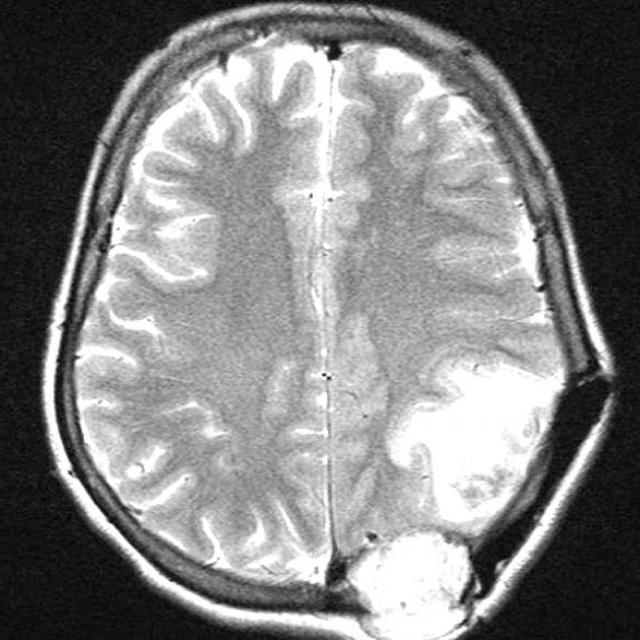tumor: (386, 357, 566, 539), (330, 530, 474, 636)
